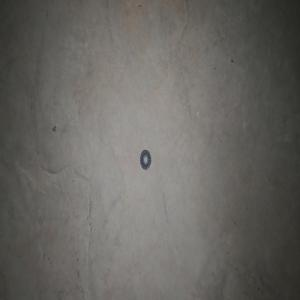Washer: (139, 149, 151, 169)
